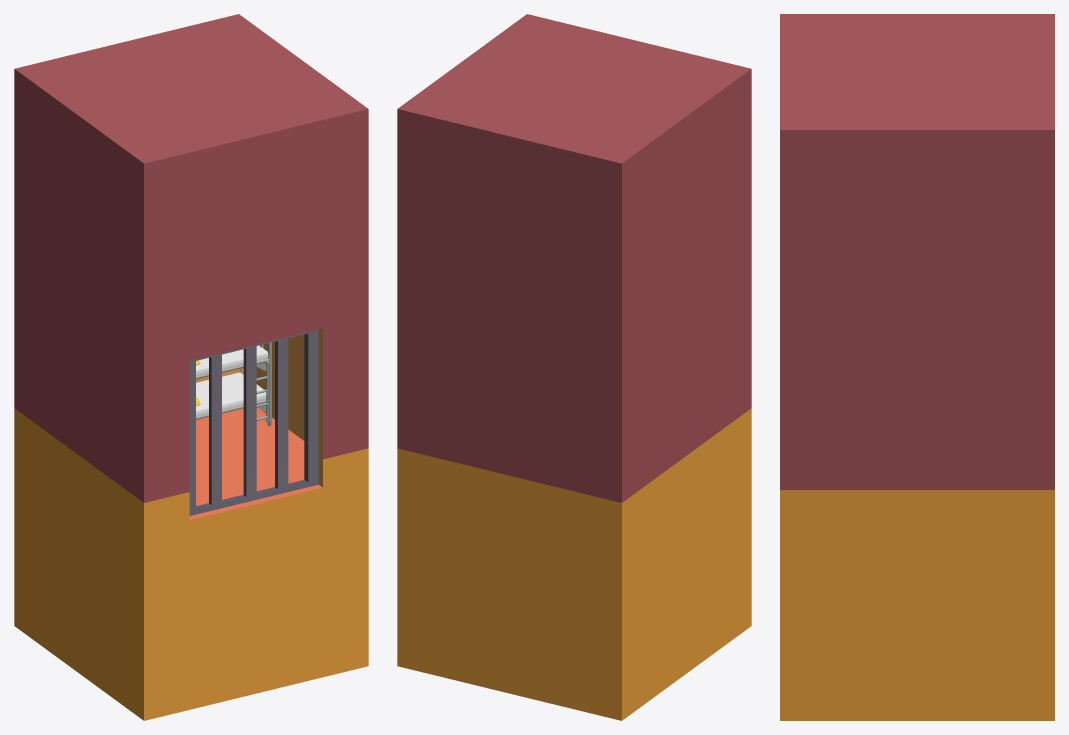
The model's file is prison.fbx.
3 renders of one model, left to right at view 1: azimuth 30°, elevation 25°; view 2: azimuth 150°, elevation 25°; view 3: azimuth 270°, elevation 25°, orthographic. The views are drawn at different scales.
Visible parts, largest first — view 1: pCube1, door, bed, cell4, cell3, cell; view 2: pCube1; view 3: pCube1.
Part boxes in pixels (bbox=[...]): pCube1: bbox=[14, 14, 368, 720]; door: bbox=[189, 329, 318, 515]; bed: bbox=[196, 342, 271, 426]; cell4: bbox=[275, 338, 288, 489]; cell3: bbox=[243, 346, 256, 496]; cell: bbox=[209, 354, 221, 505]; pCube1: bbox=[397, 14, 751, 720]; pCube1: bbox=[780, 14, 1054, 720].
Bounding box in the file's own units: 2280 × 5409 × 2281.
4 materials, 4 textured.
